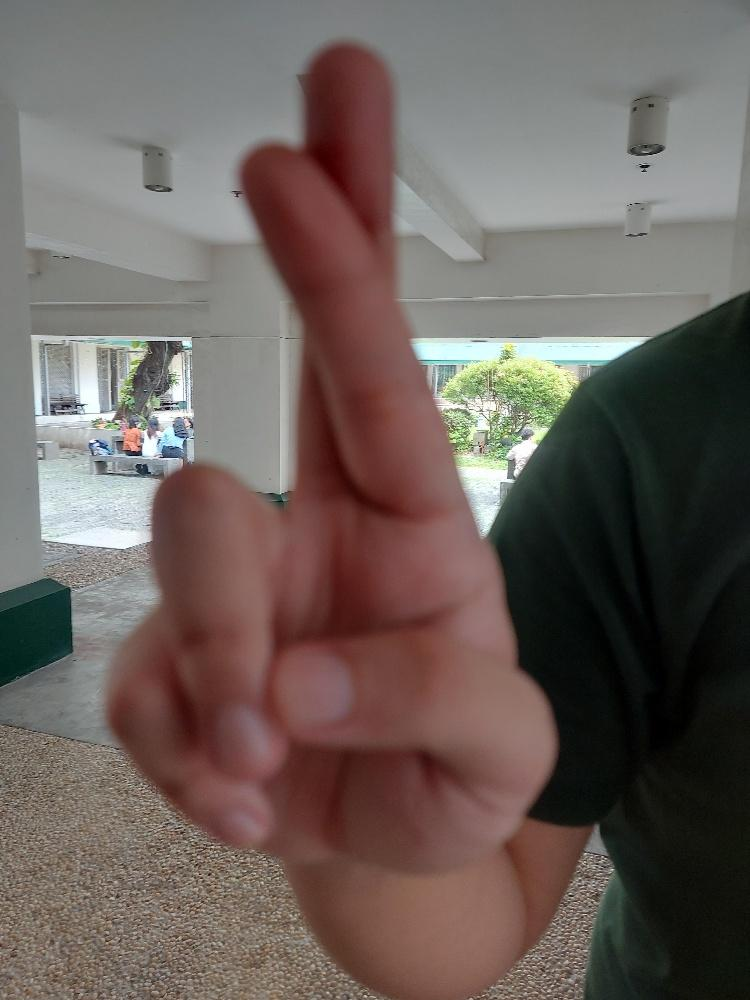r: (100, 33, 555, 879)
